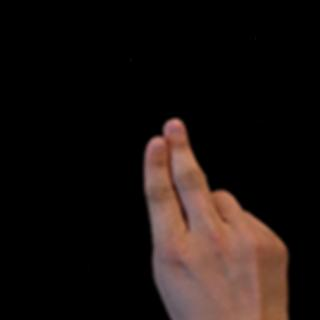DHAVE: (129, 113, 294, 320)
